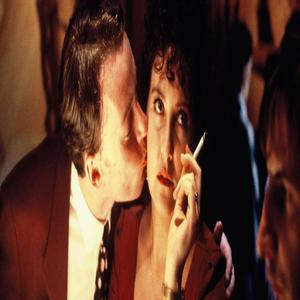cigarette: (191, 130, 208, 161)
